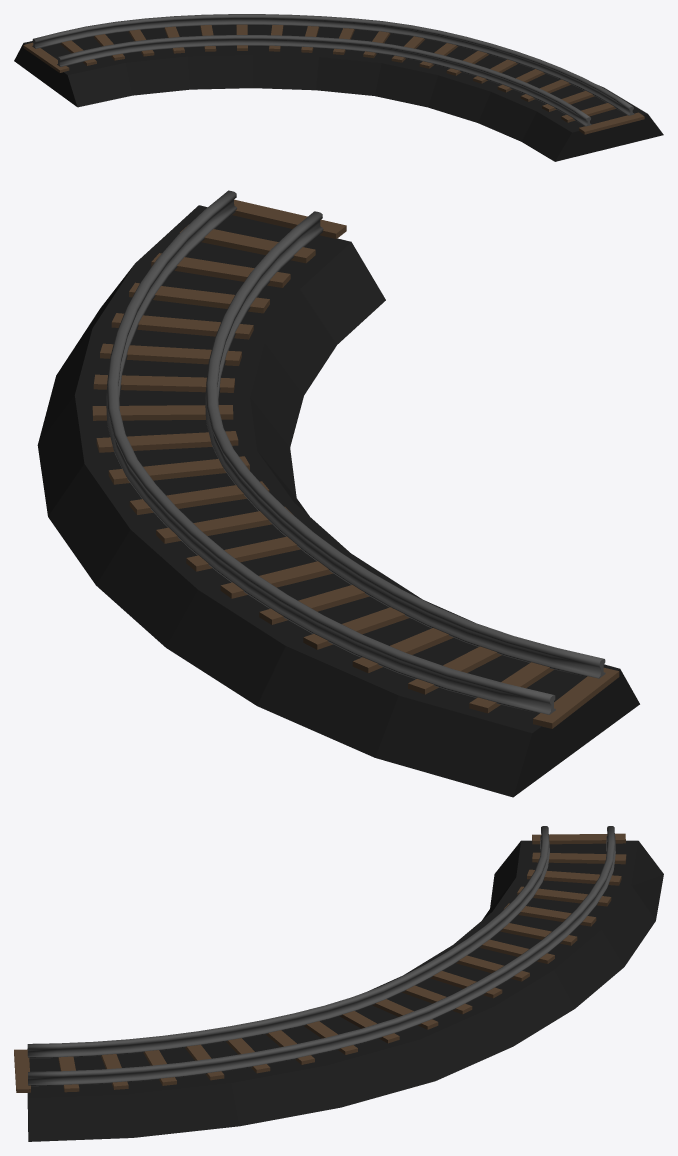
File: 01_rail_bend.obj
The picture shows the model from 3 angles, top to bottom: view 1: azimuth 30°, elevation 25°; view 2: azimuth 150°, elevation 25°; view 3: azimuth 270°, elevation 25°; orthographic projection. The views are drawn at different scales.
Parts seen in each view (by area): view 1: Mesh_01_Bend; view 2: Mesh_01_Bend; view 3: Mesh_01_Bend.
Part boxes in pixels (<box>): Mesh_01_Bend: <box>14,14,663,161</box>; Mesh_01_Bend: <box>37,190,639,797</box>; Mesh_01_Bend: <box>14,826,663,1141</box>.
Size of the model in its own units: 0.583 by 0.0483 by 0.5905.
